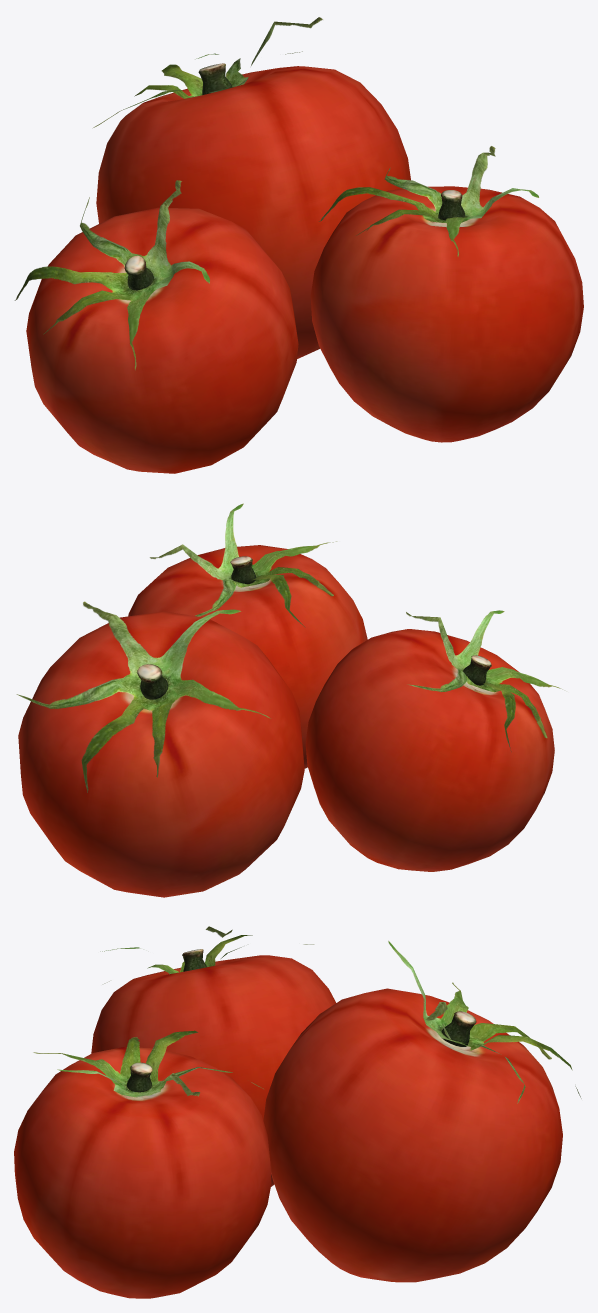
Rendered from tomatoes.glb.
3 views of the same model, one above another, from view 1: azimuth 30°, elevation 25°; view 2: azimuth 150°, elevation 25°; view 3: azimuth 270°, elevation 25° (orthographic). The views are drawn at different scales.
Parts seen in each view (by area): view 1: Tomatoes; view 2: Tomatoes; view 3: Tomatoes.
Boxes of the visible parts, <box> form: Tomatoes: <box>14,17,583,473</box>; Tomatoes: <box>16,503,564,897</box>; Tomatoes: <box>14,926,581,1298</box>.
Size of the model in its own units: 0.1327 by 0.0813 by 0.142.
Materials: 3 (3 with a texture image).
